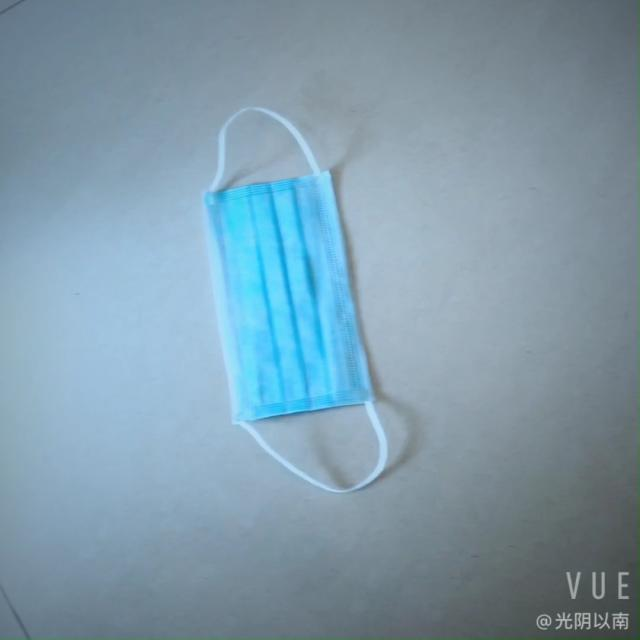face mask: (190, 155, 372, 461)
